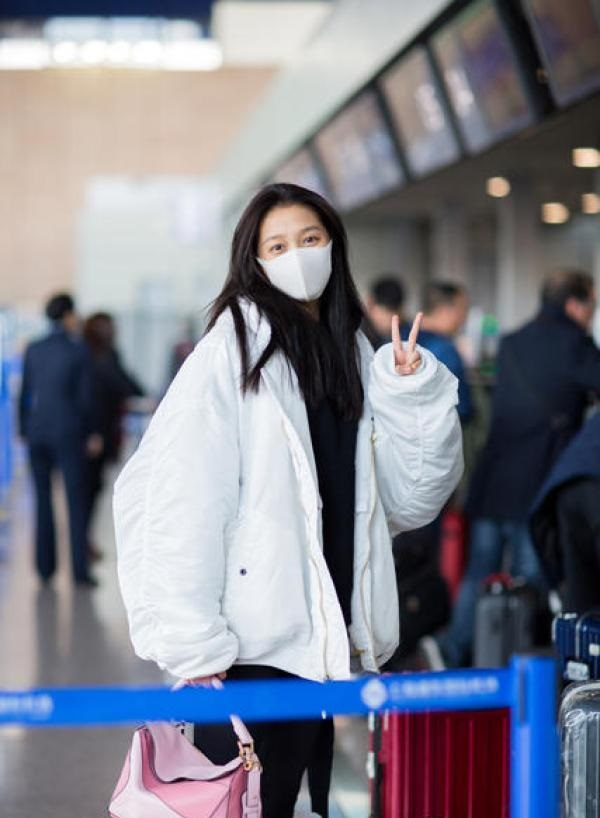face_mask: (260, 200, 330, 304)
